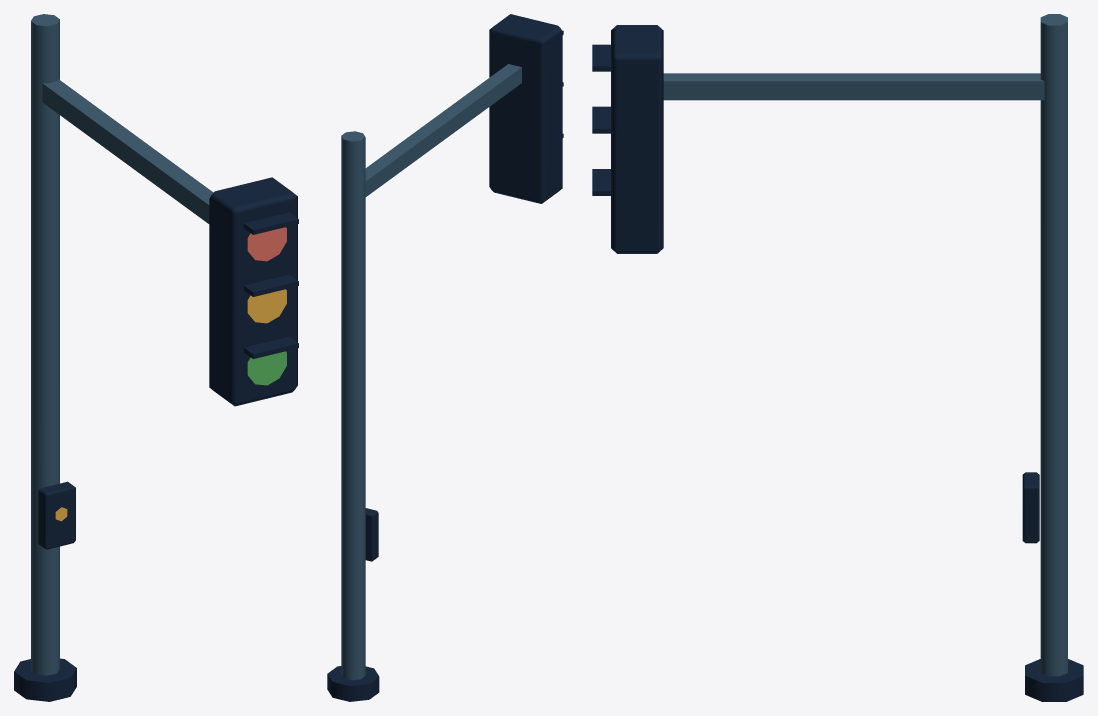
Rendered from CM_Prop_TrafficLight.fbx.
3 renders of one model, left to right at view 1: azimuth 30°, elevation 25°; view 2: azimuth 150°, elevation 25°; view 3: azimuth 270°, elevation 25°, orthographic. The views are drawn at different scales.
Parts seen in each view (by area): view 1: Body, LampRed, LampAmber, LampGreen; view 2: Body; view 3: Body.
Part boxes in pixels (box(x1,y1,x2,y2)): Body: box(14, 14, 297, 701); LampRed: box(244, 212, 298, 261); LampAmber: box(244, 274, 298, 323); LampGreen: box(244, 336, 298, 385); Body: box(327, 14, 562, 701); Body: box(611, 14, 1083, 701).
Size of the model in its own units: 1.5 by 9.3 by 14.
1 material, 1 textured.
